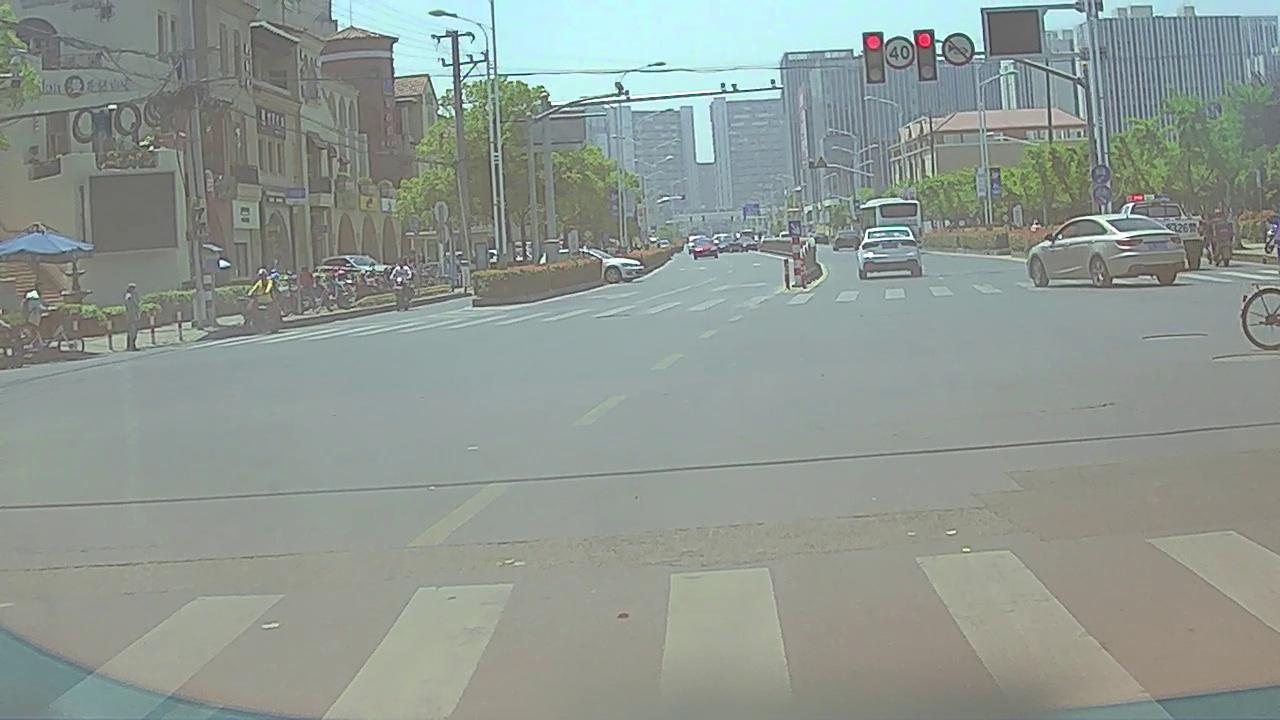traffic_light: (864, 32, 887, 83), (915, 31, 938, 81)
